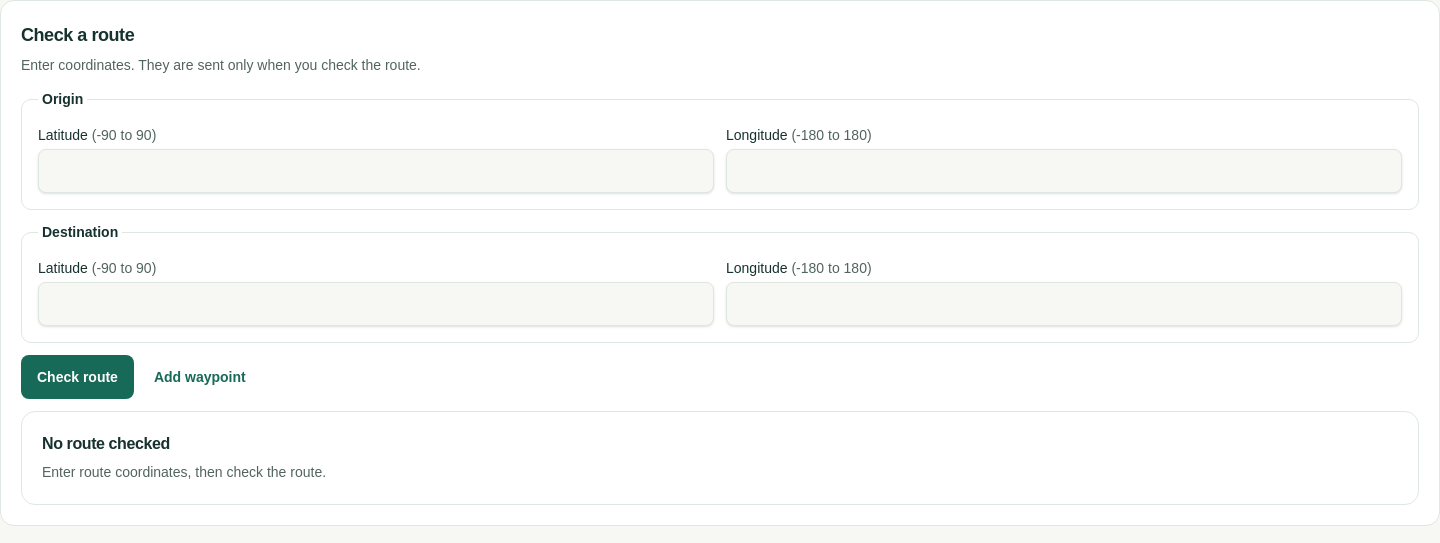
Test case: RouteRelevanceExperience › waits for an explicit, validated coordinate request
Expected: the heading "No route checked" is shown, [42,435,170,452]
Type "6.5244" into the number field labelled "Latitude (-90 to 90)" below "Origin".
click(376, 171); type("6.5244")  # box [38,149,714,193]
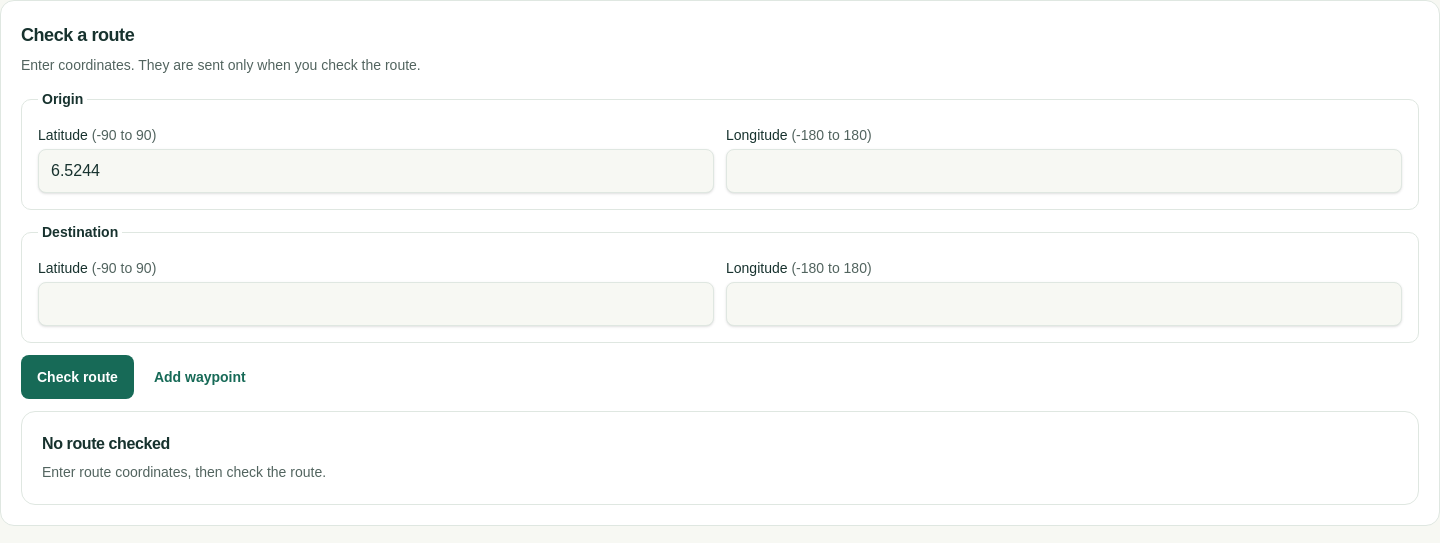
Type "3.3792" into the 1st number field labelled "Longitude (-180 to 180)".
click(1064, 171); type("3.3792")  # box [726,149,1402,193]
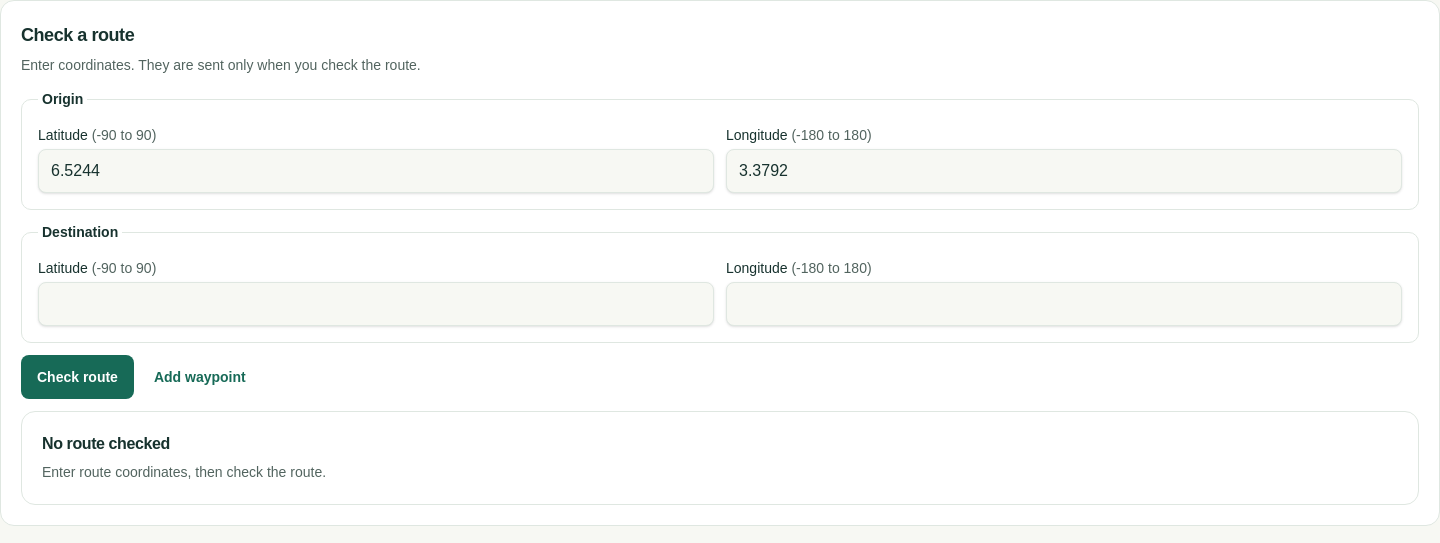
Type "6.4541" into the number field labelled "Latitude (-90 to 90)" below "Destination".
click(376, 304); type("6.4541")  # box [38,282,714,326]
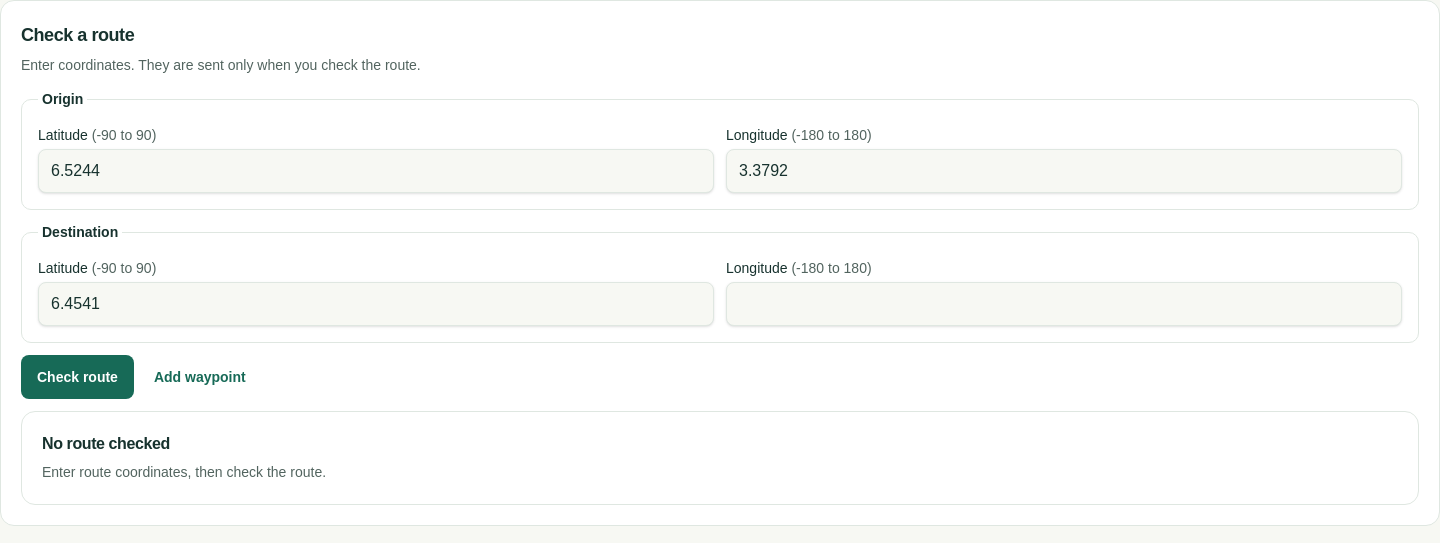
Type "3.3947" into the 2nd number field labelled "Longitude (-180 to 180)".
click(1064, 304); type("3.3947")  # box [726,282,1402,326]
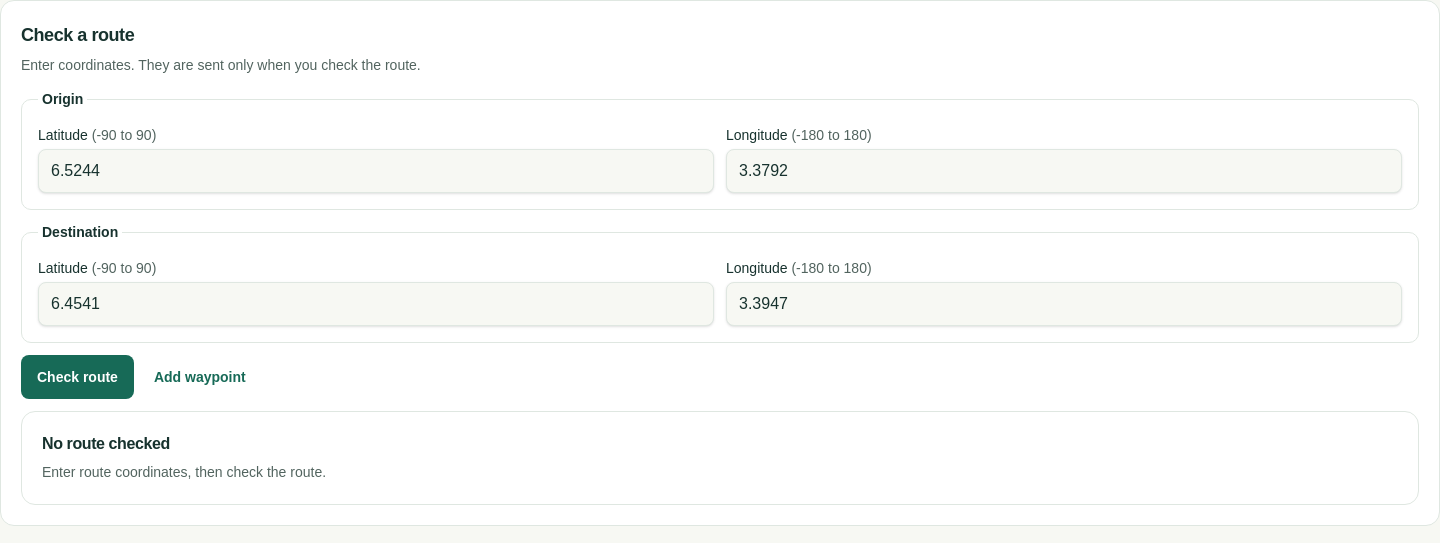
Click the button "Check route".
click(77, 377)  # box [21,355,134,399]
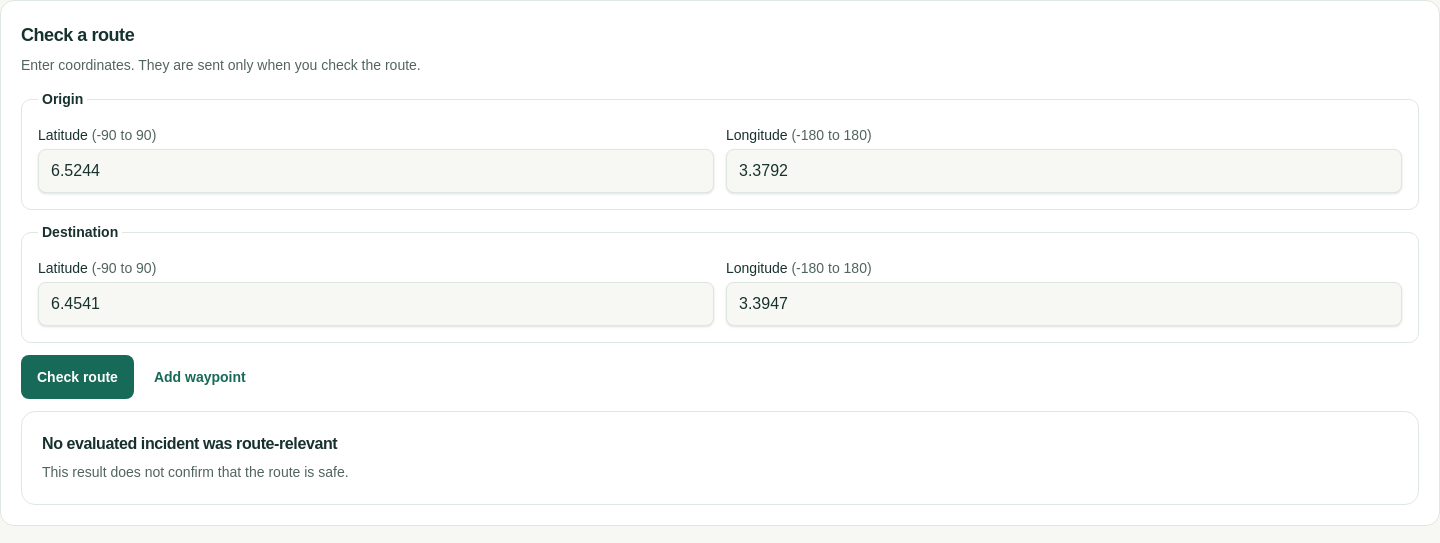
Expected: the text "This result does not confirm that the route is safe." is shown, [42,464,349,480]
